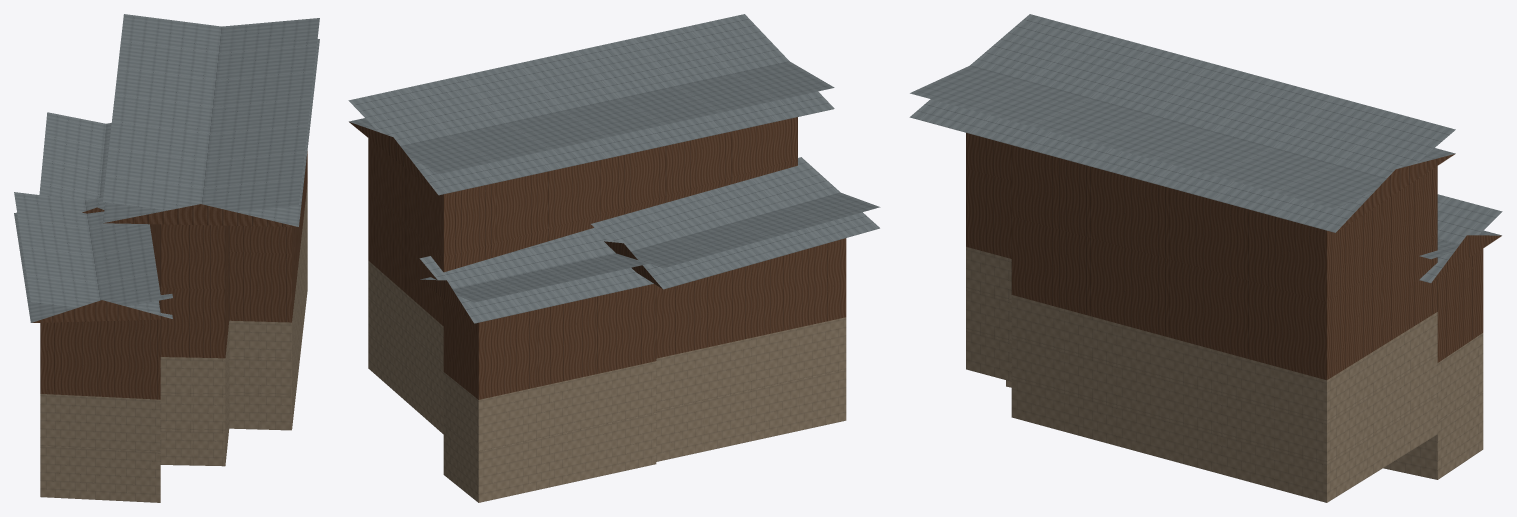
File: bld_c31_43_256.gltf
3 renders of one model, left to right at view 1: azimuth 30°, elevation 25°; view 2: azimuth 150°, elevation 25°; view 3: azimuth 270°, elevation 25°, orthographic. The views are drawn at different scales.
Parts seen in each view (by area): view 1: bld_c31_43_256; view 2: bld_c31_43_256; view 3: bld_c31_43_256.
Part boxes in pixels (<box>): bld_c31_43_256: <box>14,14,319,502</box>; bld_c31_43_256: <box>348,14,880,502</box>; bld_c31_43_256: <box>909,14,1502,502</box>.
Bounding box in the file's own units: 20.29 × 14.5 × 22.35.
Materials: 4 (4 with a texture image).
